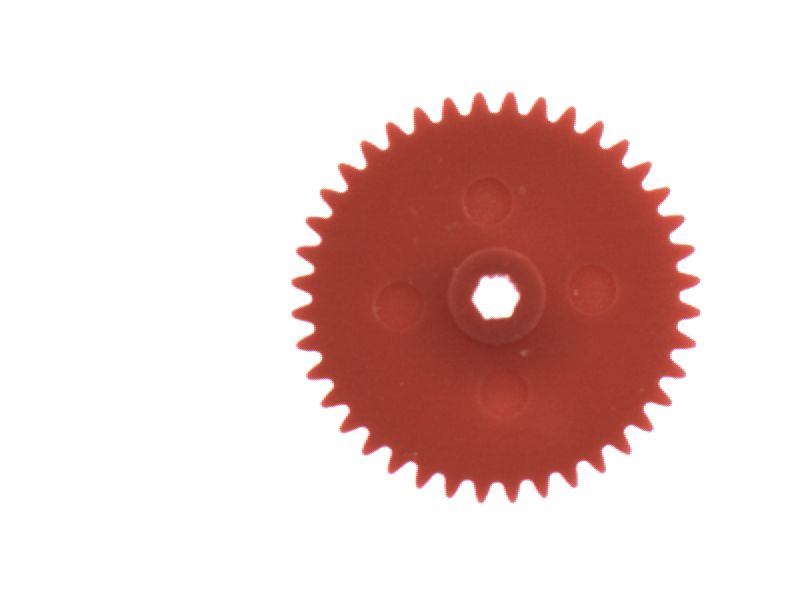good_product: (283, 80, 712, 514)
